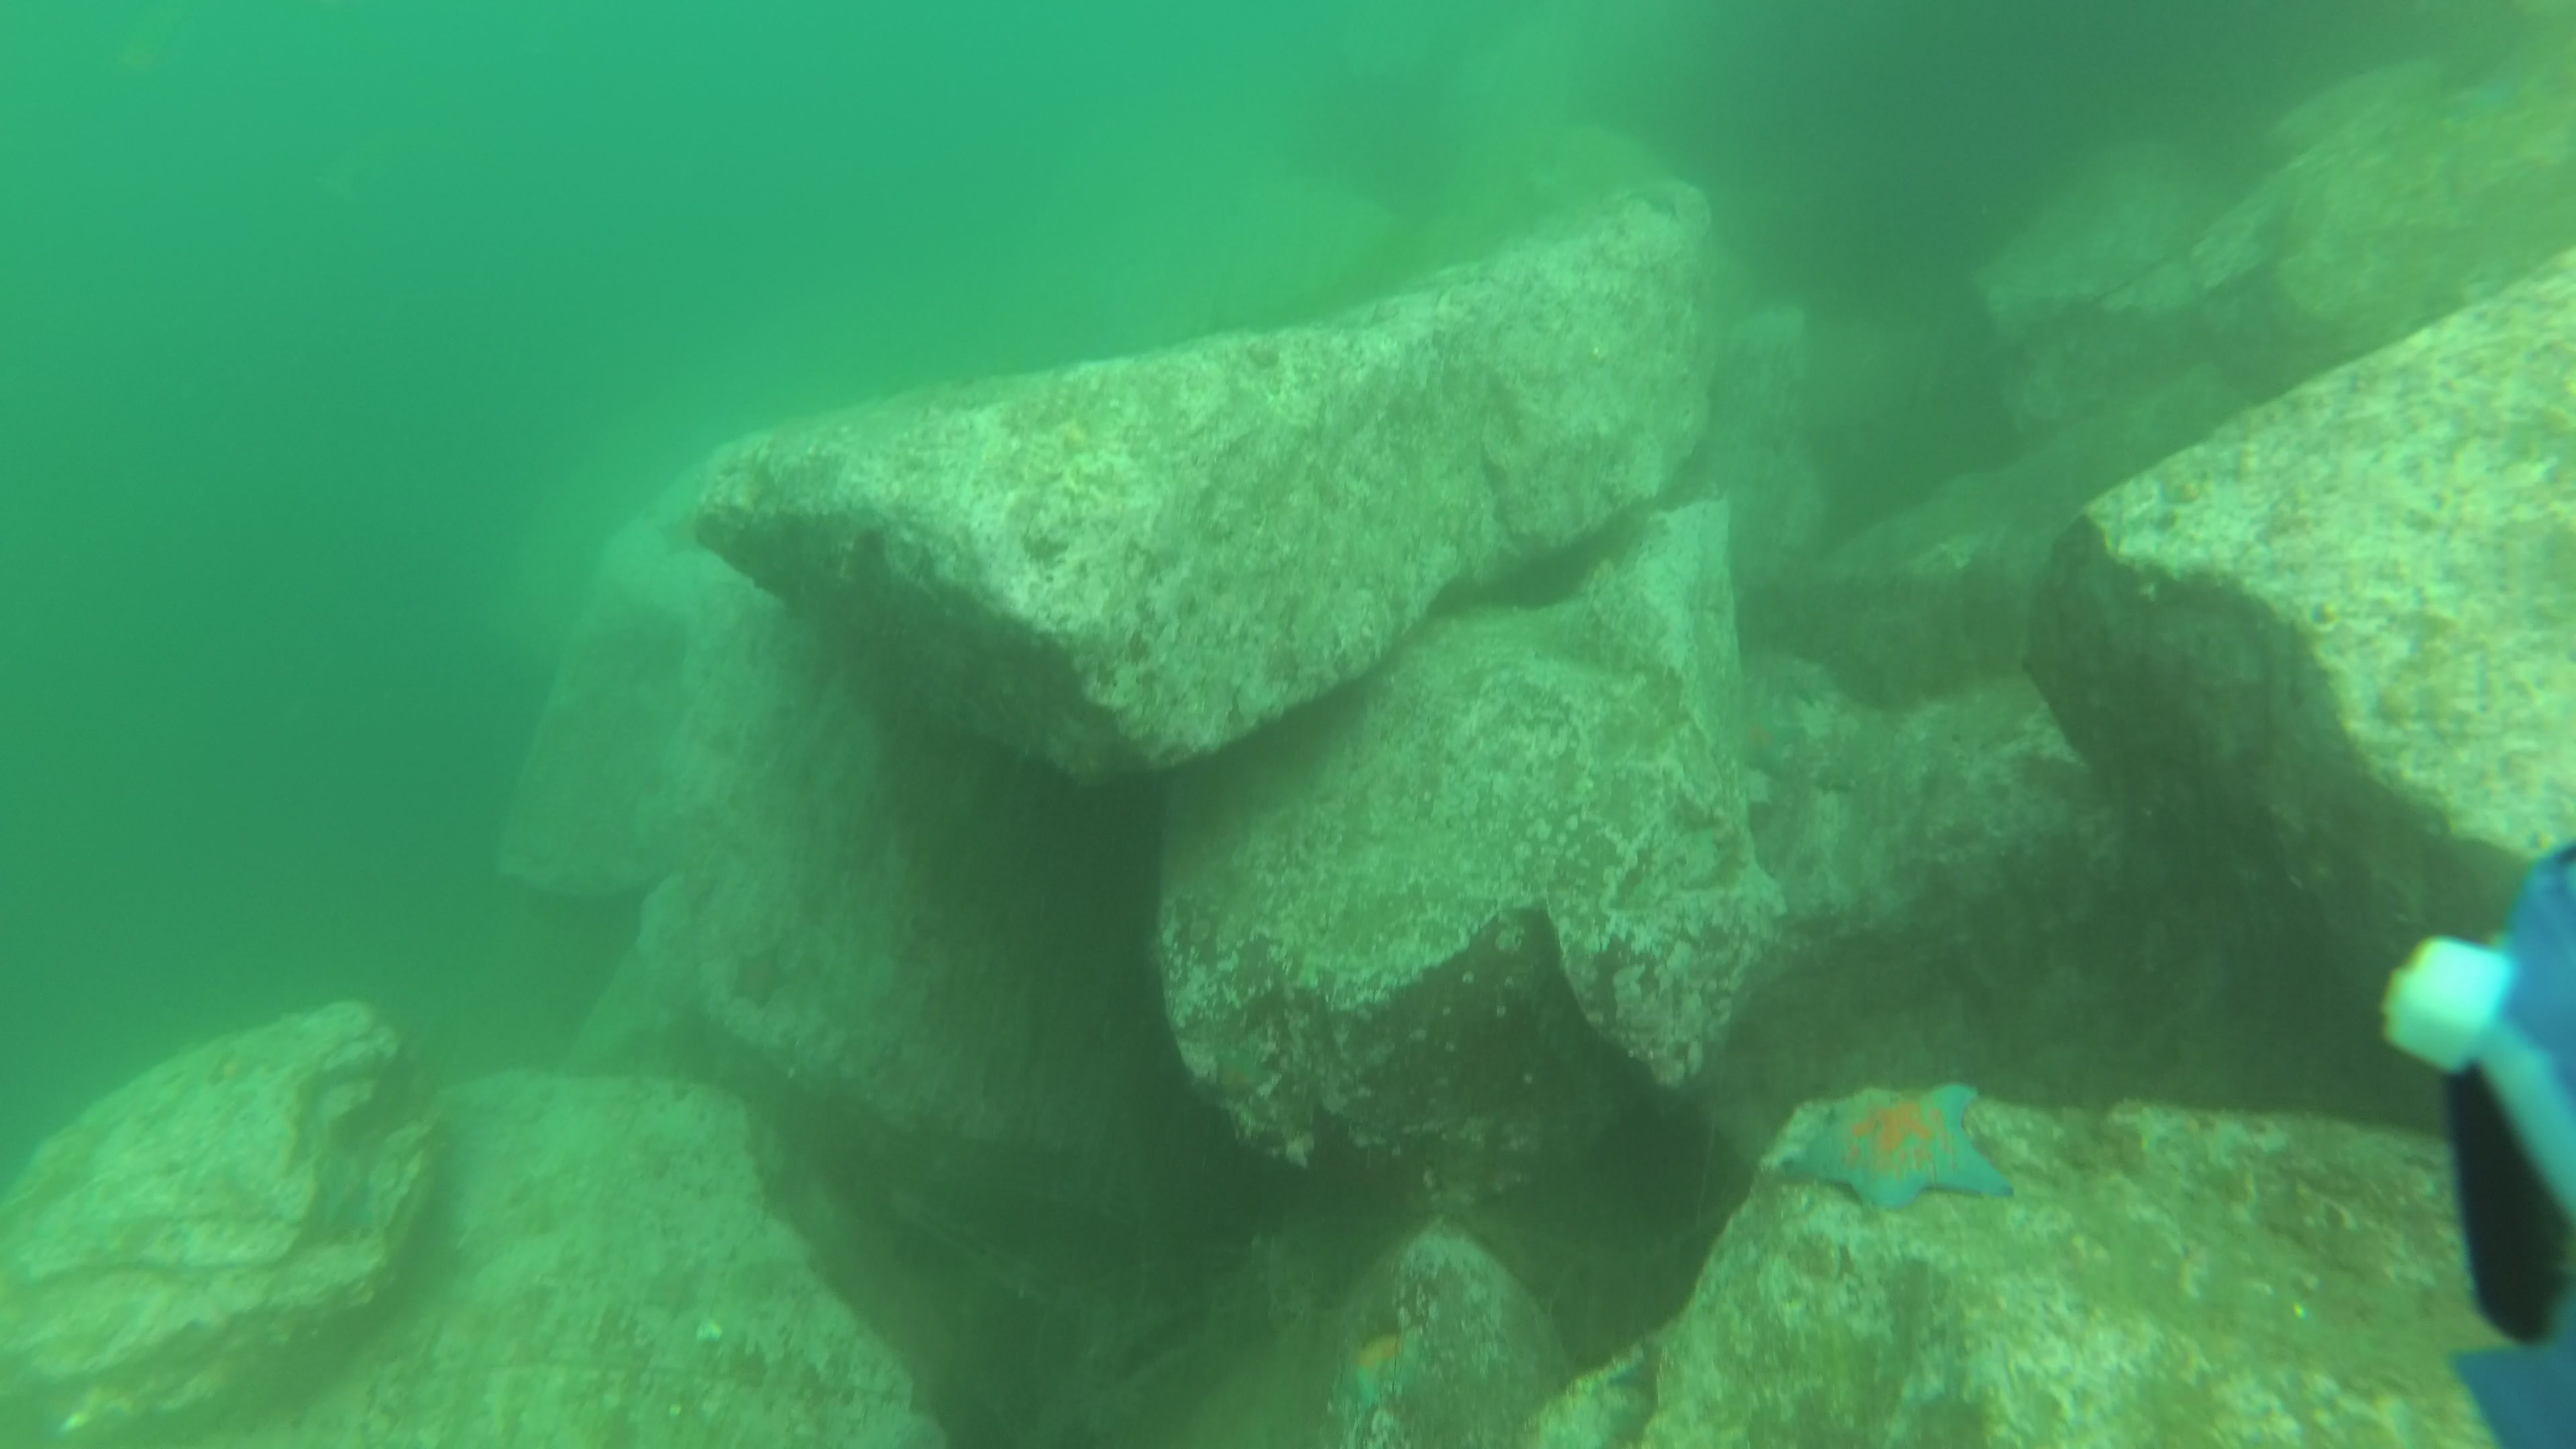starfish: (1773, 1076, 2020, 1219), (1341, 1323, 1424, 1410), (1730, 699, 1813, 780), (725, 939, 796, 1010), (2431, 78, 2518, 124)
